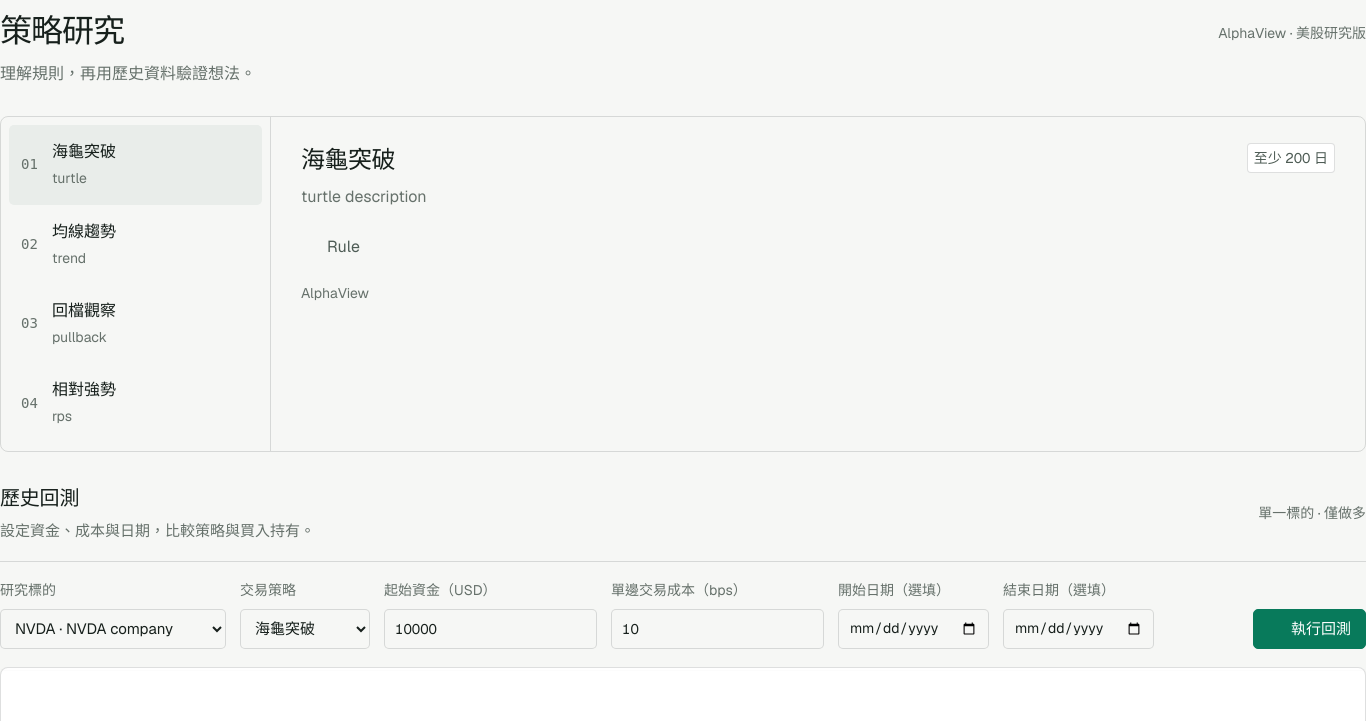
Test case: strategy research request lifecycle › keeps a fresh POST result when an older cached GET arrives afterwards
Click the button "執行回測": (1310, 629) top-left (1253, 609), bottom-right (1365, 649)
(page scrolled)
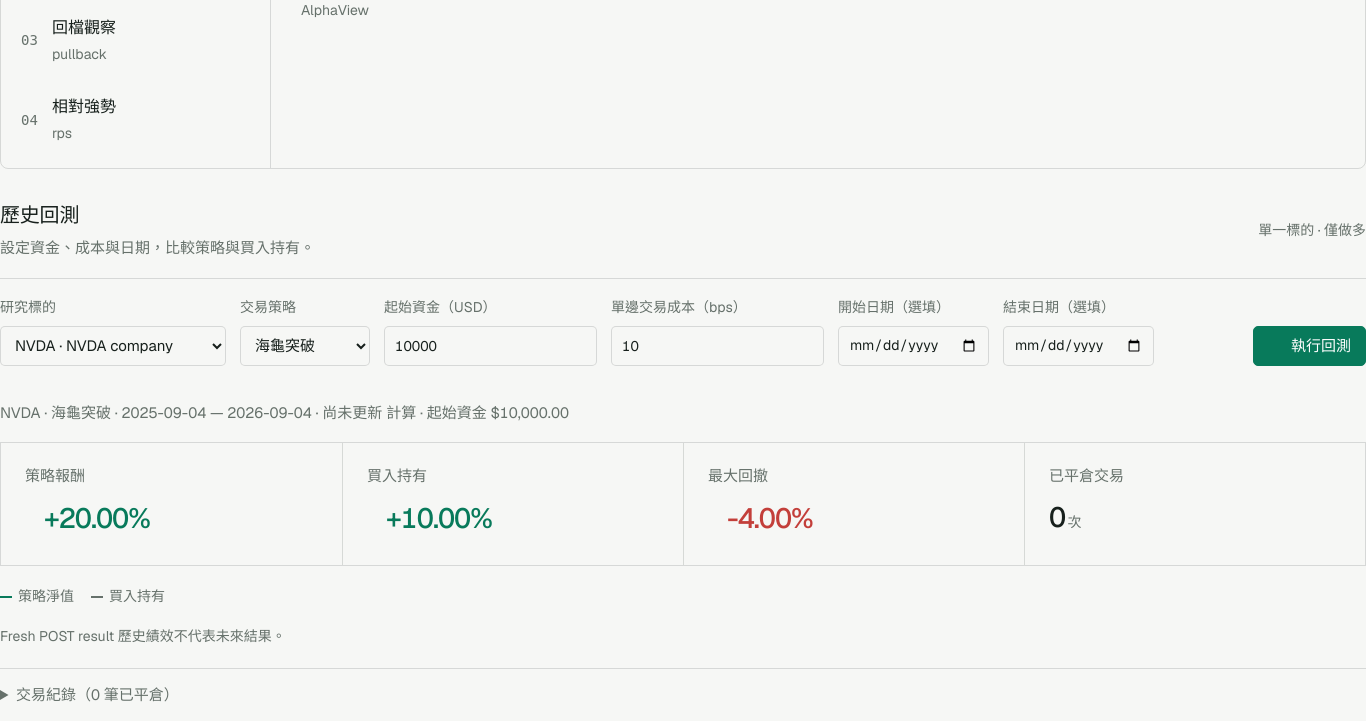
Result: the text "Fresh POST result 歷史績效不代表未來結果。" is shown at top-left (0, 627), bottom-right (286, 645)
